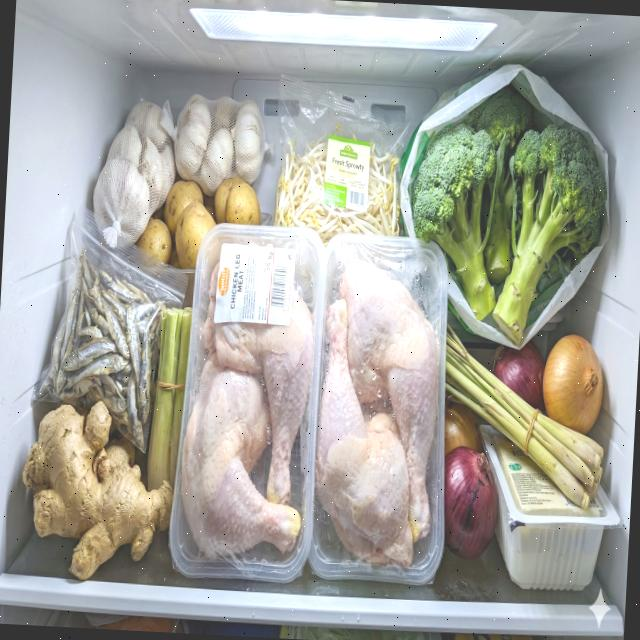anchovies: (32, 242, 170, 450)
bean_sprouts: (272, 121, 406, 254)
brocolli: (403, 80, 614, 348)
chicken: (176, 258, 314, 564), (311, 256, 446, 568)
garlic: (90, 88, 267, 257)
ginger: (18, 396, 180, 584)
lemongrass: (437, 322, 610, 512)
onion: (438, 444, 502, 560), (540, 332, 606, 438), (488, 340, 550, 414)
potato: (136, 172, 263, 274)
tofu: (490, 433, 606, 518)
